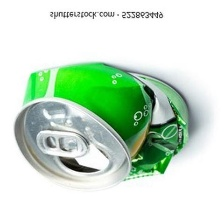can: (9, 56, 199, 196)
